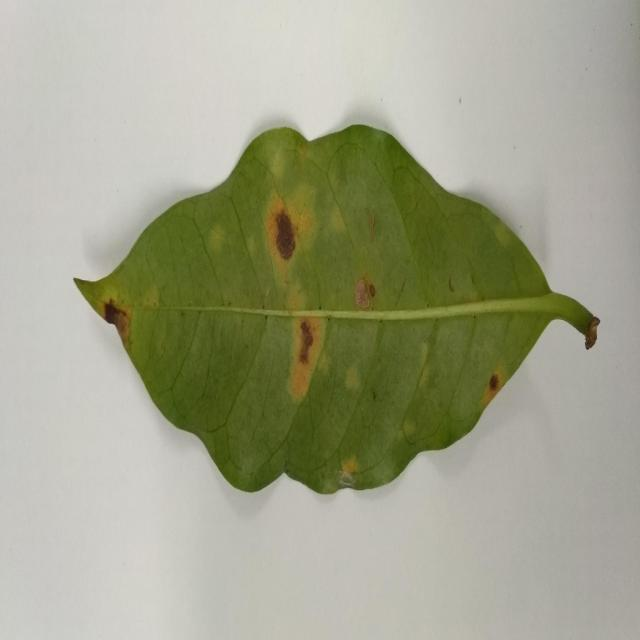Enfermedad-Roya: (72, 124, 602, 498)
